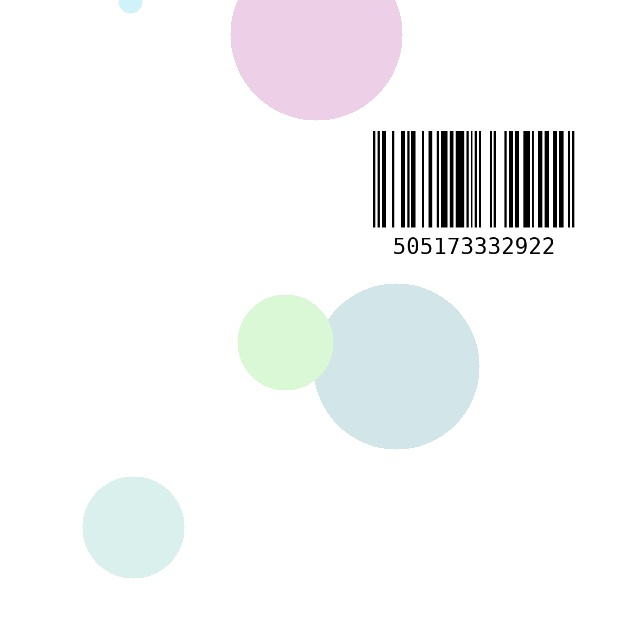barcode: (332, 125, 616, 277)
